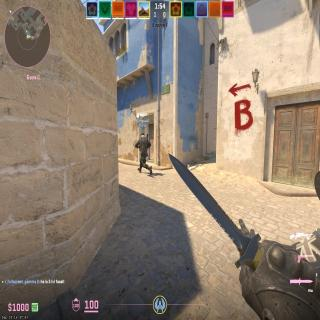CT-Body: (135, 132, 151, 175)
CT-Head: (140, 132, 145, 138)
